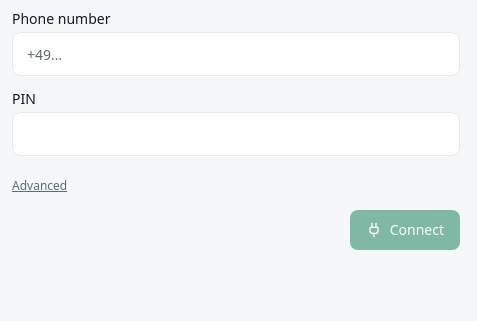
Test: TrConnectFlow › surfaces an error when connect fails
Type "+49150" into the field labelled "Phone number".
click(236, 54); type("+49150")  # box [12,32,460,76]
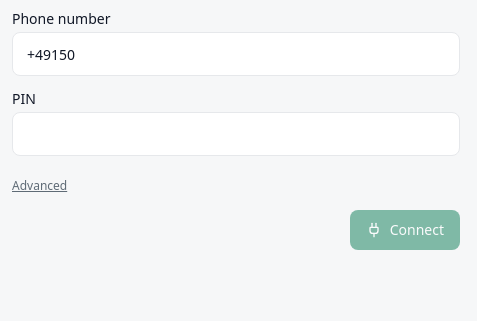
Type "1234" into the password field labelled "PIN".
click(236, 134); type("1234")  # box [12,112,460,156]
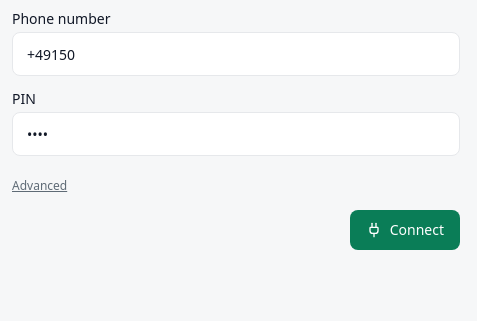
Click the button "Connect".
click(405, 230)  # box [350,210,460,250]
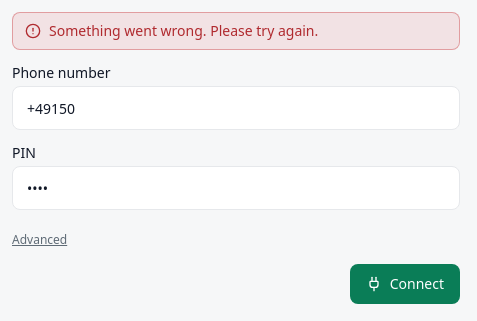
Expected: the message "Something went wrong. Please try again." is shown, [12,12,460,50]
